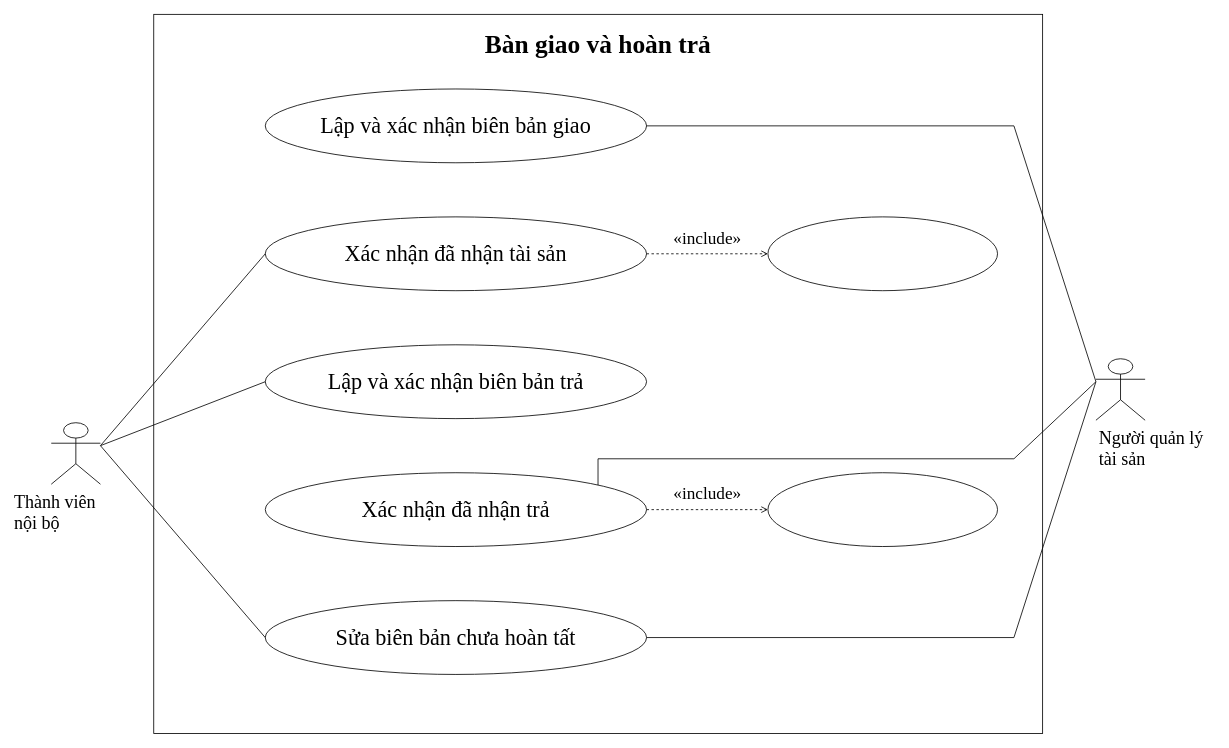
The diagram is 1229 pixels wide and 748 high, and some of its shapes have lost their labels. The box of each missing label's shape, as (x1, y1, x2, y2) in pixels:
Ghi kết quả và đóng phiếu: (767, 472, 998, 547)
Kiểm tra hai bên và phiên bản: (767, 216, 998, 291)
